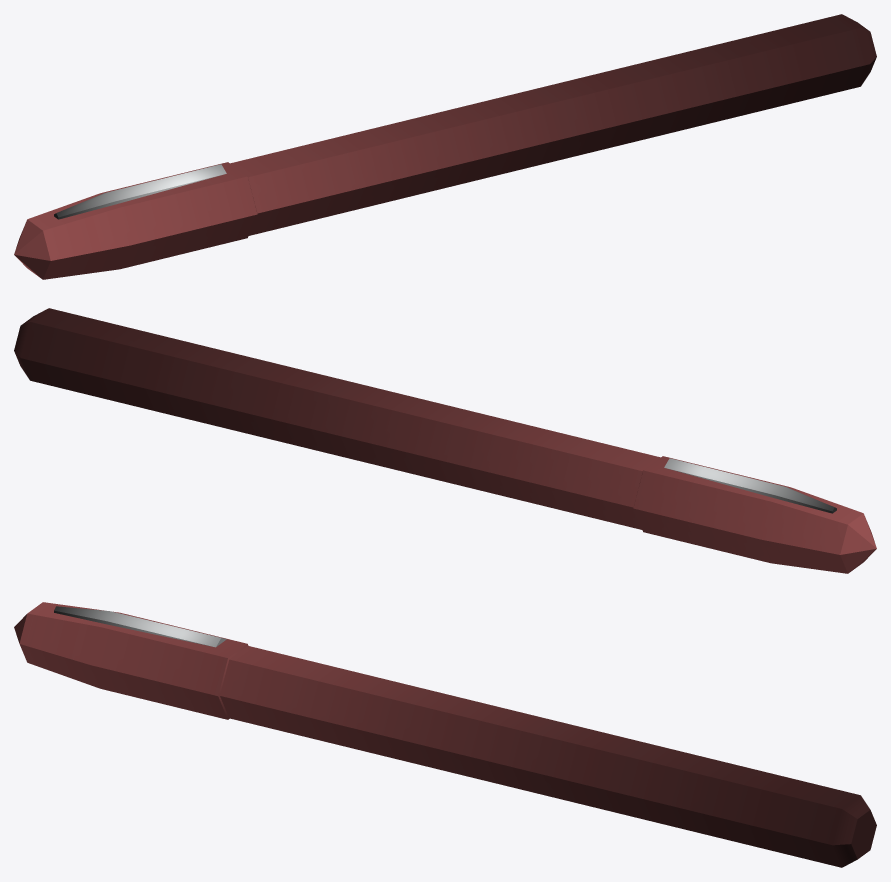
Rendered from PenClosed.fbx.
The picture shows the model from 3 angles, top to bottom: view 1: azimuth 30°, elevation 25°; view 2: azimuth 150°, elevation 25°; view 3: azimuth 330°, elevation 25°; orthographic projection.
Parts seen in each view (by area): view 1: PenClosed; view 2: PenClosed; view 3: PenClosed.
Boxes of the visible parts, bbox=[...] form: PenClosed: bbox=[14, 14, 876, 279]; PenClosed: bbox=[14, 308, 876, 573]; PenClosed: bbox=[14, 602, 876, 867].
Bounding box in the file's own units: 13.24 × 1.05 × 1.06.
